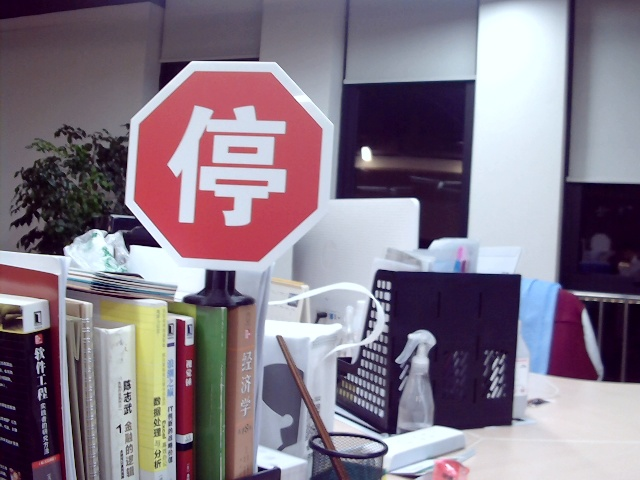stop: (167, 103, 292, 225)
